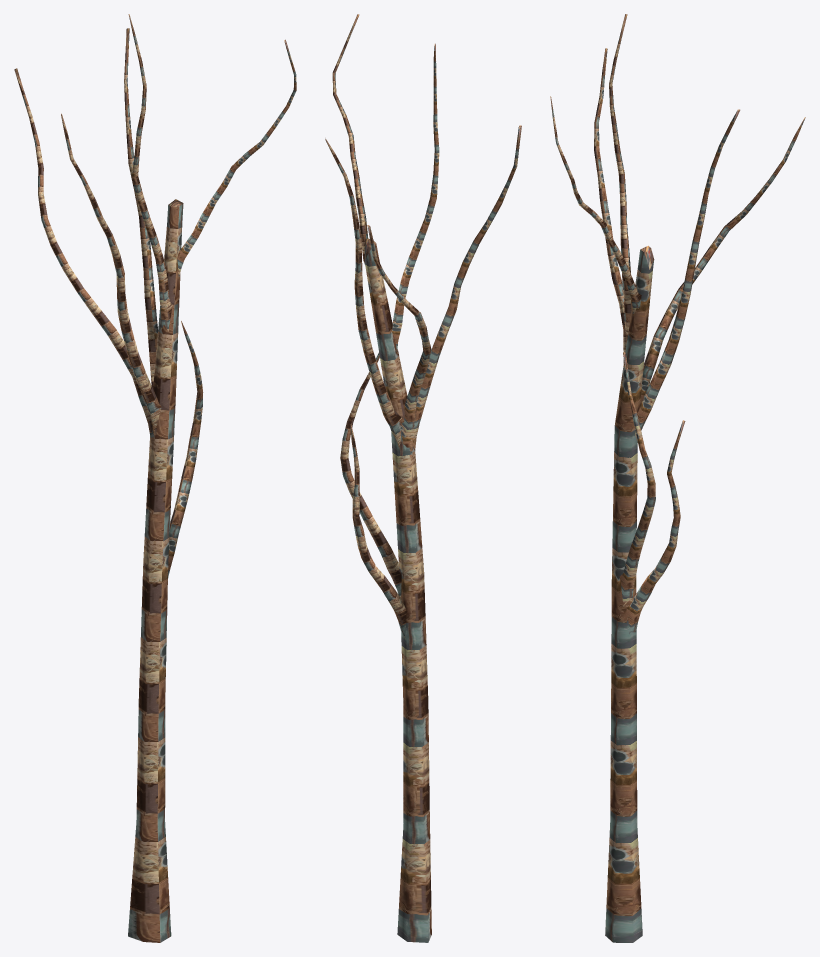
The picture shows the model from 3 angles, left to right: view 1: azimuth 30°, elevation 25°; view 2: azimuth 150°, elevation 25°; view 3: azimuth 270°, elevation 25°; orthographic projection. The views are drawn at different scales.
Parts seen in each view (by area): view 1: SM_Avas_Attractor_01_LOD0; view 2: SM_Avas_Attractor_01_LOD0; view 3: SM_Avas_Attractor_01_LOD0.
Boxes of the visible parts, x1,y1,x2,y2 form: SM_Avas_Attractor_01_LOD0: (14, 14, 296, 942); SM_Avas_Attractor_01_LOD0: (325, 14, 521, 942); SM_Avas_Attractor_01_LOD0: (550, 14, 805, 942).
Bounding box in the file's own units: 0.4783 × 1.96 × 0.4981.
